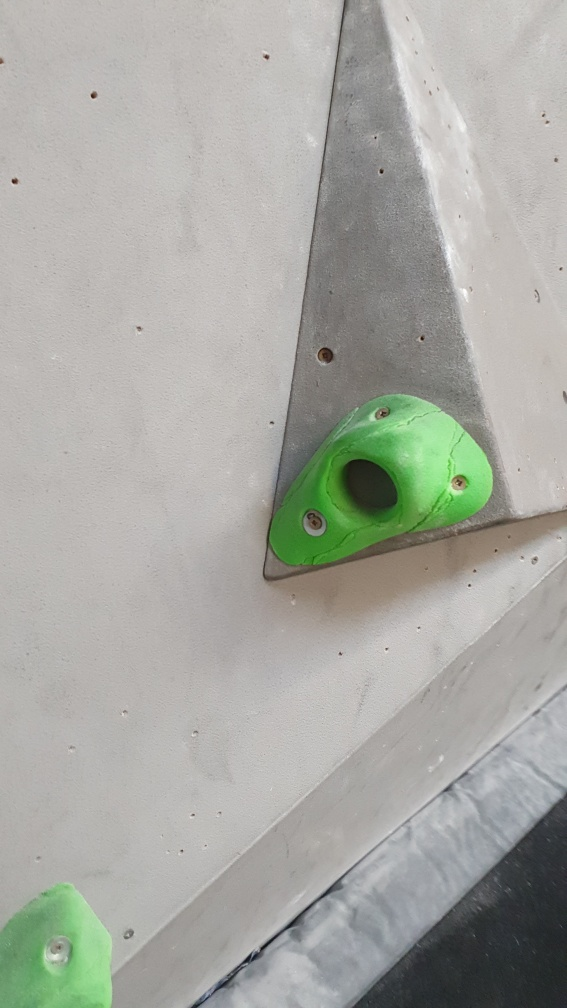Pocket: (269, 389, 499, 576)
